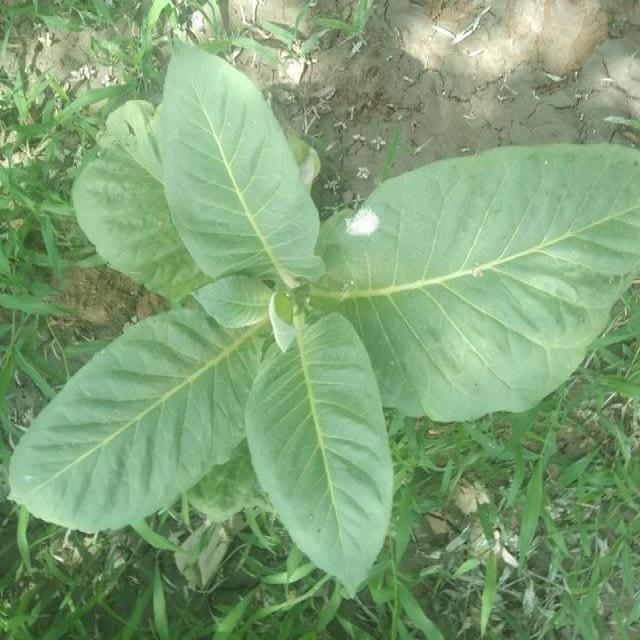crop: (31, 46, 640, 573)
